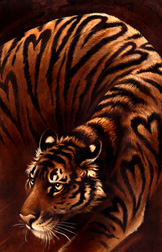Tigre: (23, 26, 155, 245)
